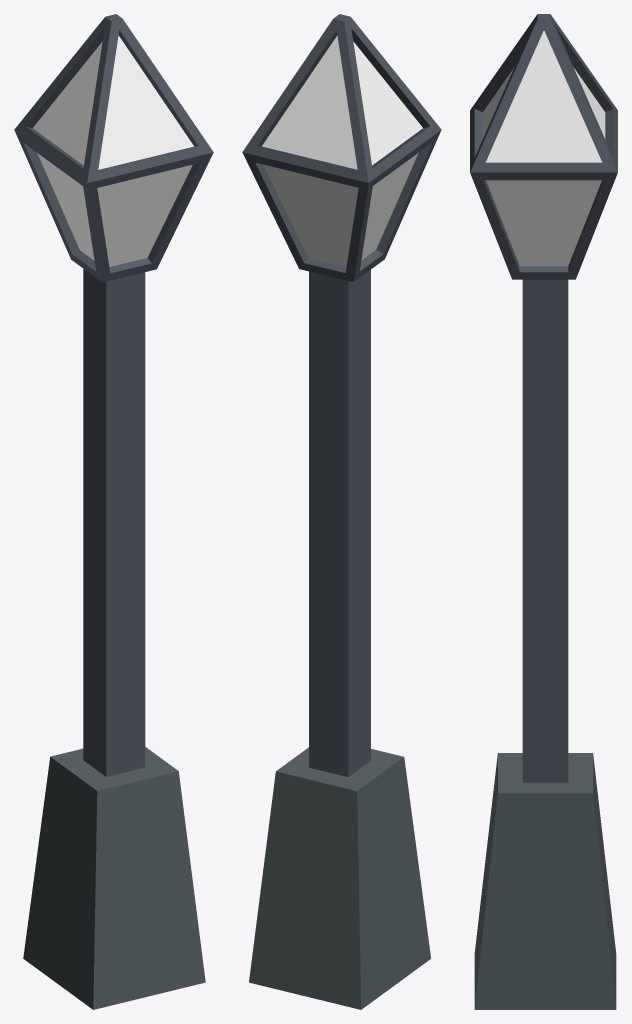
Rendered from street light2.FBX.
The picture shows the model from 3 angles, left to right: view 1: azimuth 30°, elevation 25°; view 2: azimuth 150°, elevation 25°; view 3: azimuth 270°, elevation 25°; orthographic projection.
Visible parts, largest first — view 1: street light2; view 2: street light2; view 3: street light2.
Part boxes in pixels (x1,y1,x2,y2): street light2: (14, 14, 213, 1009); street light2: (242, 14, 441, 1009); street light2: (470, 14, 617, 1009).
Bounding box in the file's own units: 1.61 × 11.59 × 1.61.
